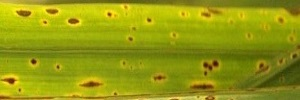RiceBrownSpot: (2, 56, 226, 100), (9, 5, 222, 45), (255, 9, 297, 79)
